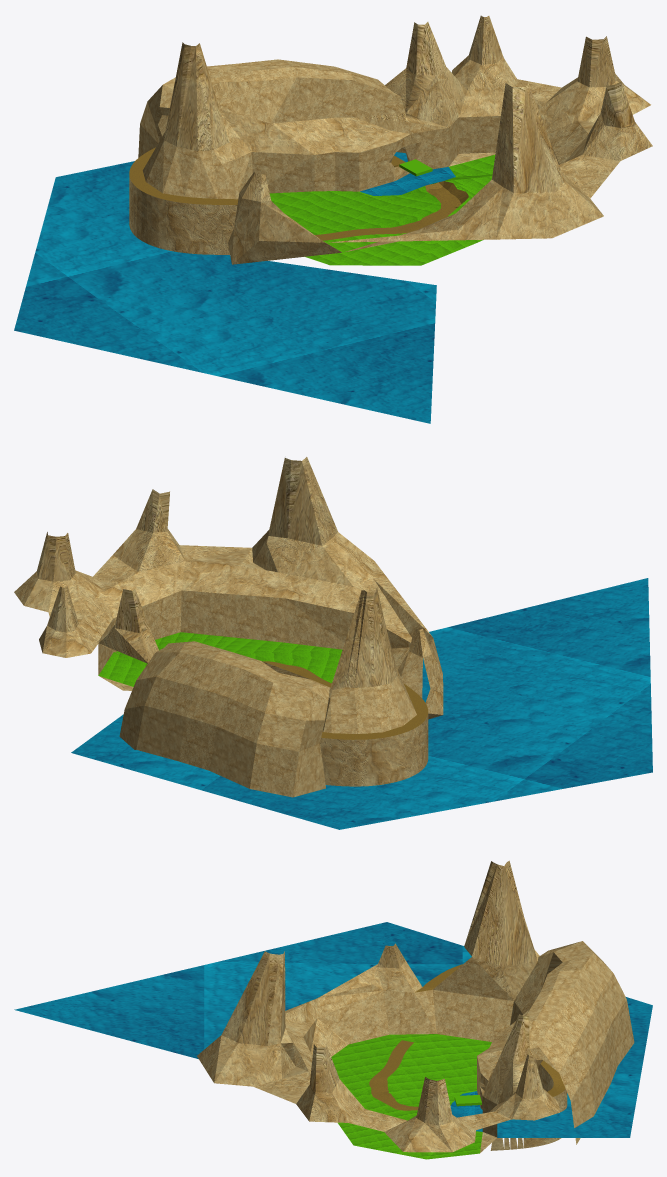
File: volcanic.glb
3 renders of one model, top to bottom at view 1: azimuth 30°, elevation 25°; view 2: azimuth 150°, elevation 25°; view 3: azimuth 270°, elevation 25°, orthographic. The views are drawn at different scales.
Parts seen in each view (by area): view 1: Death, Decoration, Walls, Offroad, Road; view 2: Death, Decoration, Walls, Offroad, Road; view 3: Decoration, Death, Walls, Offroad, Road.
Boxes of the visible parts, x1,y1,x2,y2 form: Death: [14, 152, 455, 423]; Decoration: [129, 15, 652, 264]; Walls: [138, 59, 559, 263]; Offroad: [269, 154, 495, 265]; Road: [129, 147, 468, 240]; Death: [71, 578, 652, 829]; Decoration: [14, 457, 443, 786]; Walls: [98, 590, 442, 797]; Offroad: [98, 632, 342, 686]; Road: [263, 661, 428, 739]; Decoration: [197, 860, 567, 1152]; Death: [14, 922, 652, 1137]; Walls: [317, 941, 634, 1144]; Offroad: [331, 1034, 491, 1159]; Road: [369, 964, 565, 1110].
Size of the model in its own units: 618 by 199 by 583.
4 materials, 4 textured.
